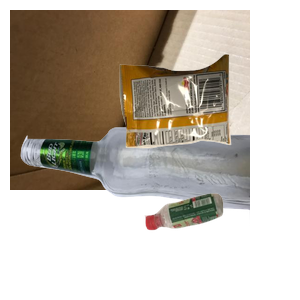cardboard: (10, 10, 250, 190)
glass: (18, 124, 258, 300)
plastic: (142, 191, 300, 300)
trash: (117, 52, 300, 193)
